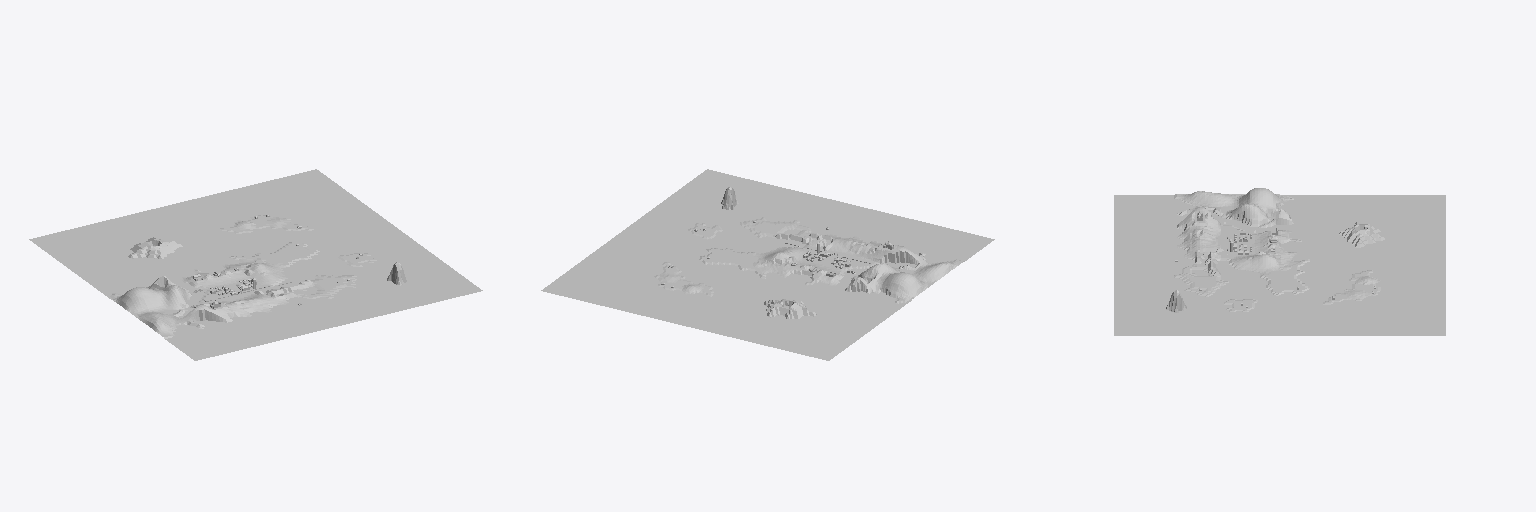
File: new Map.mtl.obj
The picture shows the model from 3 angles: view 1: azimuth 30°, elevation 25°; view 2: azimuth 150°, elevation 25°; view 3: azimuth 270°, elevation 25°; orthographic projection.
Visible parts, largest first — view 1: OutE3.Odm; view 2: OutE3.Odm; view 3: OutE3.Odm.
Part boxes in pixels (x1,y1,x2,y2): OutE3.Odm: (29,169,482,360); OutE3.Odm: (541,169,994,360); OutE3.Odm: (1114,188,1445,335).
Bounding box in the file's own units: 650 × 41.64 × 650.